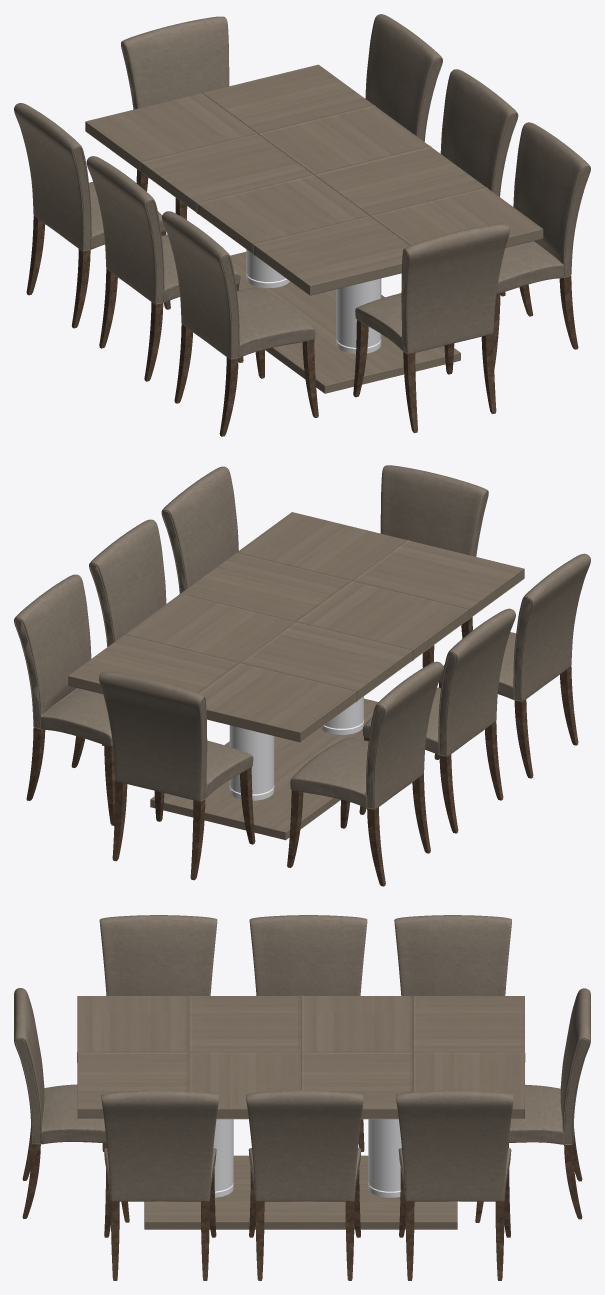
Rendered from ban-an-8-ghe-tables-68.glb.
The picture shows the model from 3 angles, top to bottom: view 1: azimuth 30°, elevation 25°; view 2: azimuth 150°, elevation 25°; view 3: azimuth 270°, elevation 25°; orthographic projection.
Visible parts, largest first — view 1: Box006, Plane002, Plane007, Plane019, Plane009, Plane013, Plane011, Box007, Plane017, Plane015, Box004, Box008 (+5 smaller); view 2: Box006, Plane013, Plane011, Plane015, Plane007, Plane009, Plane002, Box007, Plane019, Plane017, Box011, Box010 (+5 smaller); view 3: Box006, Plane019, Plane015, Plane017, Box007, Plane007, Plane009, Plane011, Plane002, Plane013, Cylinder003, Box013 (+5 smaller).
Boxes of the visible parts, x1,y1,x2,y2 form: Box006: (85,64,543,295); Plane002: (355,223,509,354); Plane007: (162,211,315,359); Plane019: (496,122,590,294); Plane009: (86,156,240,304); Plane013: (121,16,229,109); Plane011: (14,103,166,251); Box007: (230,252,460,393); Plane017: (440,69,518,196); Plane015: (365,14,442,141); Box004: (353,320,496,433); Box008: (174,324,318,436); Box006: (68,512,524,742); Plane013: (99,671,253,801); Plane011: (290,661,443,809); Plane015: (14,574,112,746); Plane007: (439,553,590,701); Plane009: (362,608,515,756); Plane002: (380,465,488,556); Box007: (150,698,378,840); Plane019: (161,466,238,593); Plane017: (89,519,166,646); Box011: (112,767,255,880); Box010: (287,774,430,886); Box006: (77,995,525,1119); Plane019: (101,1090,218,1201); Plane015: (396,1090,513,1201); Plane017: (246,1090,363,1201); Box007: (144,1155,457,1229); Plane007: (99,915,217,996); Plane009: (249,915,367,996); Plane011: (394,915,511,995); Plane002: (14,988,106,1144); Plane013: (508,988,590,1144); Cylinder003: (368,1119,401,1197); Box013: (249,1168,360,1280).
Bounding box in the file's own units: 1916 × 940 × 2578.
Materials: 5 (4 with a texture image).
